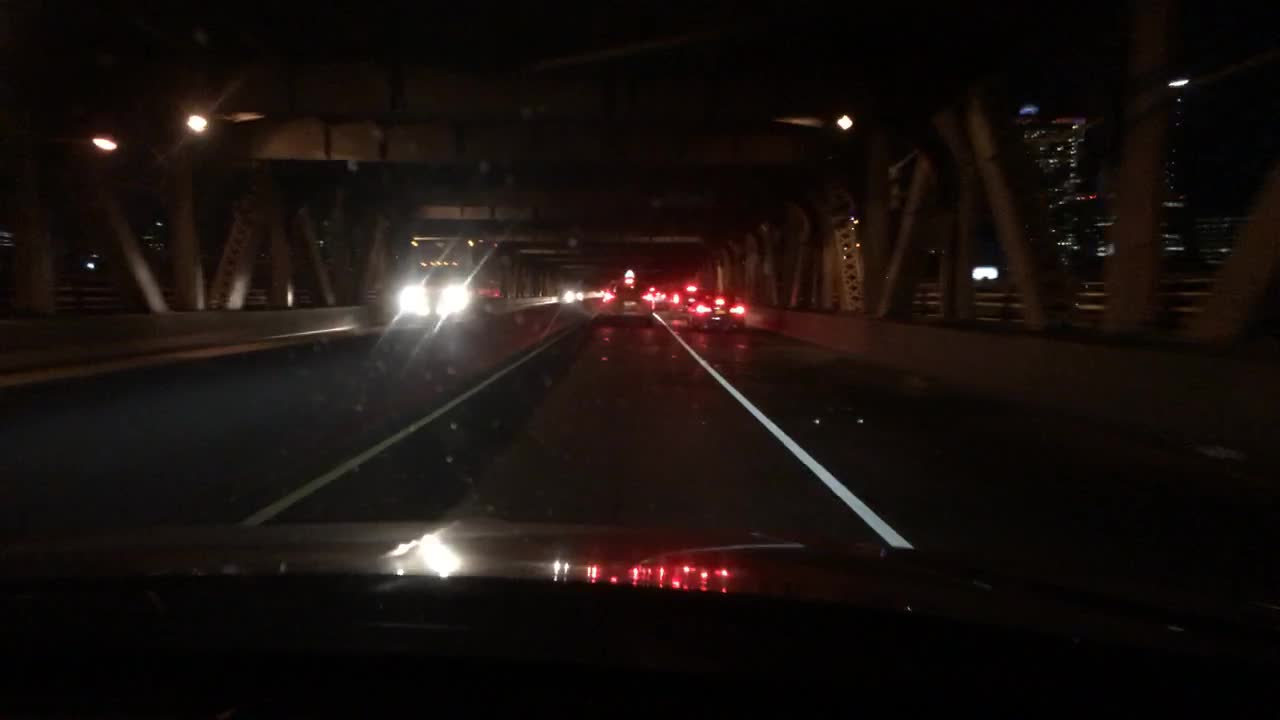bus: (396, 232, 511, 324)
car: (590, 266, 654, 325), (686, 289, 746, 331), (679, 283, 708, 312), (561, 289, 586, 304), (652, 291, 672, 303)
